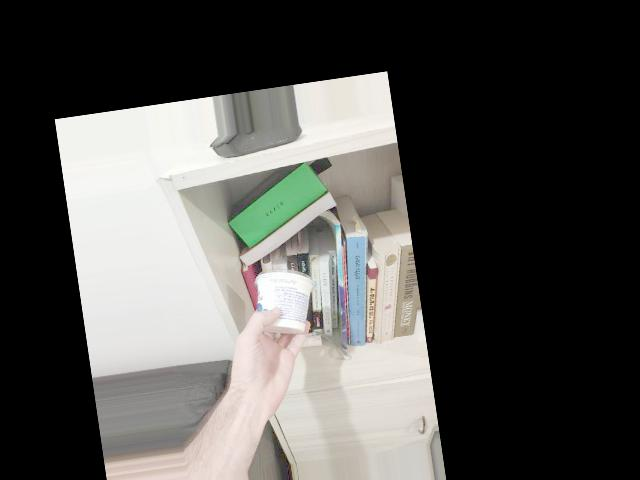cotage: (244, 260, 324, 354)
